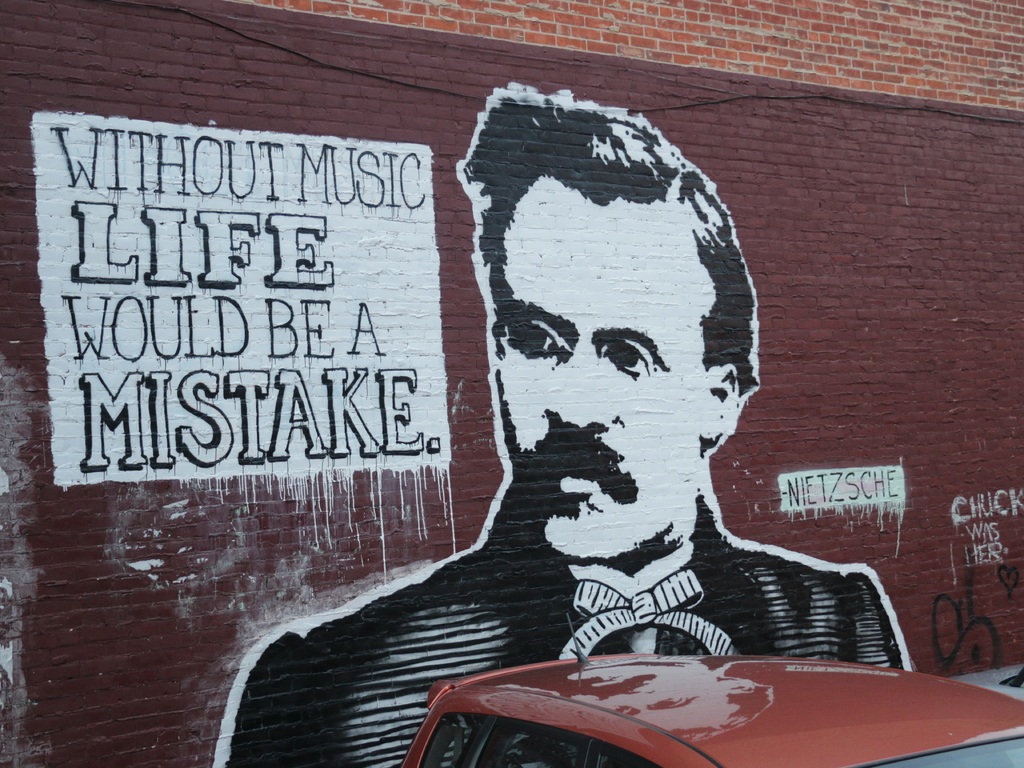Car: (393, 610, 1023, 767)
